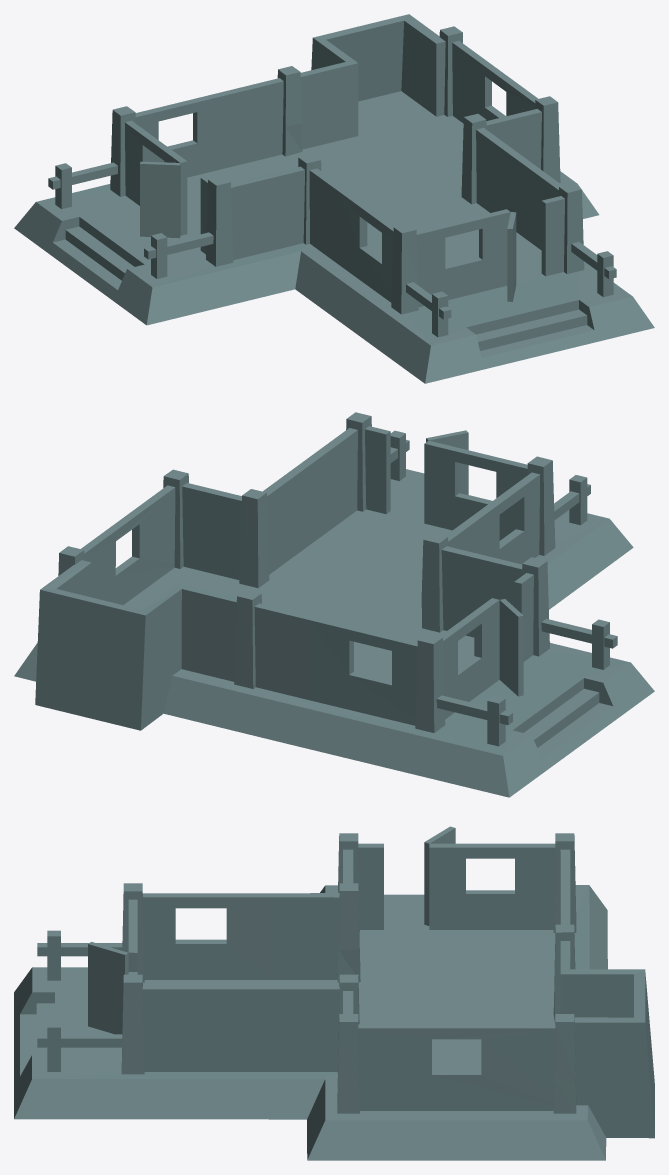
File: house_01_bottom.fbx
3 renders of one model, top to bottom at view 1: azimuth 30°, elevation 25°; view 2: azimuth 150°, elevation 25°; view 3: azimuth 270°, elevation 25°, orthographic. The views are drawn at different scales.
Visible parts, largest first — view 1: obj0; view 2: obj0; view 3: obj0.
Part boxes in pixels (left/top/right/bottom): obj0: left=14, top=14, right=654, bottom=383; obj0: left=14, top=412, right=654, bottom=797; obj0: left=14, top=826, right=654, bottom=1160.
Bounding box in the file's own units: 19.12 × 4.41 × 20.7.
